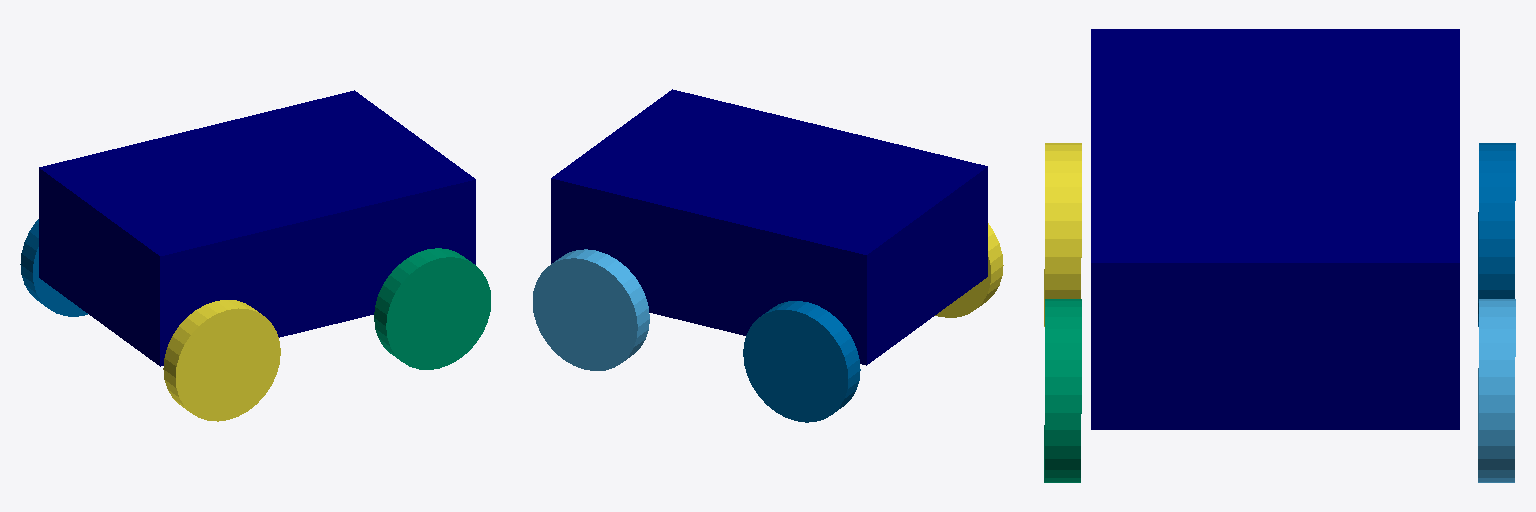
The robot description file, URDF, robot "my_robot":
<?xml version="1.0"?>
<robot name="my_robot">

  <material name="blue">
    <color rgba="0 0 0.5 1"/>
  </material>
  
  
  <!-- first link needs to named verbatim base_link -->
  <link name="base_link">
    <visual>
      <geometry>
        <box size="0.3 0.2 0.1" />
      </geometry>
      <origin xyz="0 0 0.05" rpy="0 0 0" />
      <material name="blue"/>
    </visual>
  </link>

  <link name="front_left_wheel_link">
    <visual>
      <geometry>
        <cylinder radius="0.05" length="0.02"/>
      </geometry>
      <origin xyz="0 0.02 0" rpy="1.57 0 0"/>
    </visual>
  </link> 

  <link name="front_right_wheel_link">
    <visual>
      <geometry>
        <cylinder radius="0.05" length="0.02"/>
      </geometry>
      <origin xyz="0 0 0" rpy="1.57 0 0"/>
    </visual>
  </link> 
  
    <link name="back_right_wheel_link">
    <visual>
      <geometry>
        <cylinder radius="0.05" length="0.02"/>
      </geometry>
      <origin xyz="0 0 0" rpy="1.57 0 0"/>
    </visual>
  </link> 
 
  <link name="back_left_wheel_link">
    <visual>
      <geometry>
        <cylinder radius="0.05" length="0.02"/>
      </geometry>
      <origin xyz="0 0.02 0" rpy="1.57 0 0"/>
    </visual>
  </link> 

  <joint name="joint_front_left_shoulder" type="continuous">
    <parent link="base_link"/>
    <child link="front_left_wheel_link"/>
    <origin xyz="0.1 0.1 0" rpy="0 0 0"/>
    <axis xyz="0 1 0"/>
    <!--limit effort="1000.0" velocity="1.0" lower="-3.14" upper="3.14"/-->
  </joint>


  <joint name="joint_front_right_shoulder" type="continuous">
    <parent link="base_link"/>
    <child link="front_right_wheel_link"/>
    <origin xyz="0.1 -0.115 0" rpy="0 0 0"/>
    <axis xyz="0 1 0"/>
    <!--limit effort="1000.0" velocity="1.0" lower="-3.14" upper="3.14"/-->
  </joint>
  
  <joint name="joint_back_right_shoulder" type="continuous">
    <parent link="base_link"/>
    <child link="back_right_wheel_link"/>
    <origin xyz="-0.1 -0.115 0" rpy="0 0 0"/>
    <axis xyz="0 1 0"/>
    <!--limit effort="1000.0" velocity="1.0" lower="-3.14" upper="3.14"/-->
  </joint>
  
  <joint name="joint_back_left_shoulder" type="continuous">
    <parent link="base_link"/>
    <child link="back_left_wheel_link"/>
    <origin xyz="-0.1 0.1 0" rpy="0 0 0"/>
    <axis xyz="0 1 0"/>
    <!--limit effort="1000.0" velocity="1.0" lower="-3.14" upper="3.14"/-->
  </joint>
 
</robot>

--- Facts derived from the render (not from the file) ---
The picture shows the robot from 3 angles, left to right: view 1: azimuth 30°, elevation 25°; view 2: azimuth 150°, elevation 25°; view 3: azimuth 270°, elevation 25°; orthographic projection.
Model my_robot with 5 links and 4 joints (4 continuous), rooted at base_link, posed every joint at zero.
Links seen in each view (by area): view 1: base_link, front_right_wheel_link, back_right_wheel_link, back_left_wheel_link; view 2: base_link, front_left_wheel_link, back_left_wheel_link, back_right_wheel_link; view 3: base_link, front_left_wheel_link, front_right_wheel_link, back_right_wheel_link, back_left_wheel_link.
Boxes of the visible links, x1,y1,x2,y2 form: base_link: (39, 90, 475, 366); front_right_wheel_link: (374, 248, 490, 369); back_right_wheel_link: (163, 300, 280, 421); back_left_wheel_link: (20, 219, 87, 316); base_link: (551, 89, 987, 365); front_left_wheel_link: (533, 249, 649, 370); back_left_wheel_link: (743, 301, 860, 422); back_right_wheel_link: (935, 223, 1003, 317); base_link: (1091, 29, 1459, 429); front_left_wheel_link: (1478, 299, 1515, 482); front_right_wheel_link: (1044, 299, 1081, 482); back_right_wheel_link: (1044, 143, 1081, 326); back_left_wheel_link: (1478, 143, 1515, 326).
Bounding box of the posed robot: 0.3 × 0.2551 × 0.15 m (x, y, z).
Geometry: primitives only (box / cylinder / sphere), no mesh files.